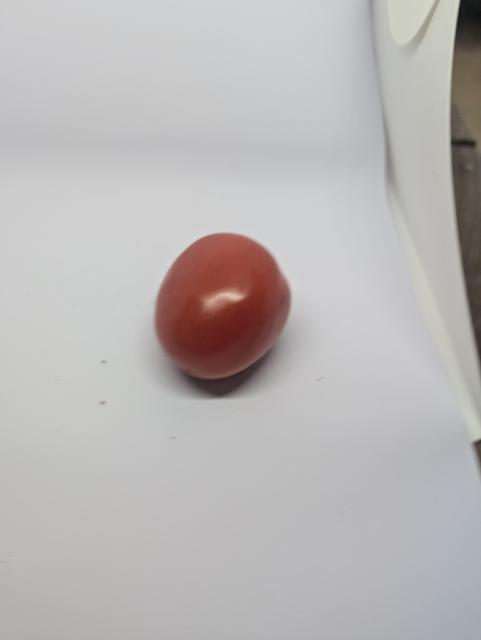red: (152, 232, 292, 381)
